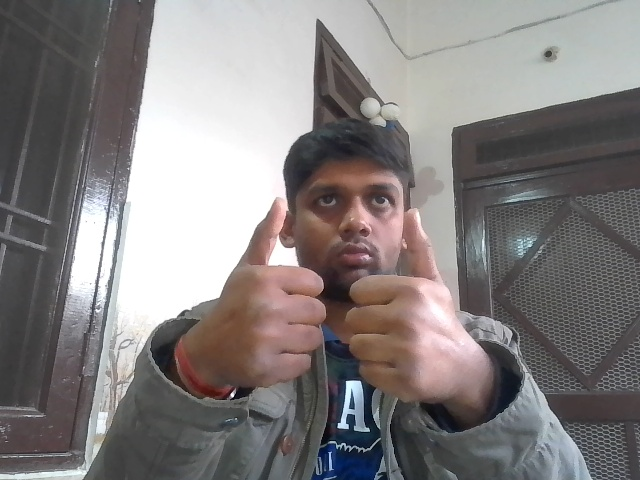Excellent: (207, 189, 450, 401)
